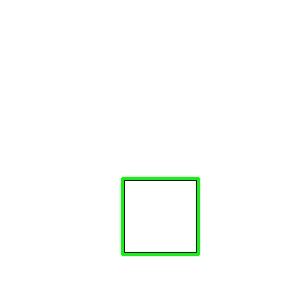line_segment: (121, 177, 200, 256)
